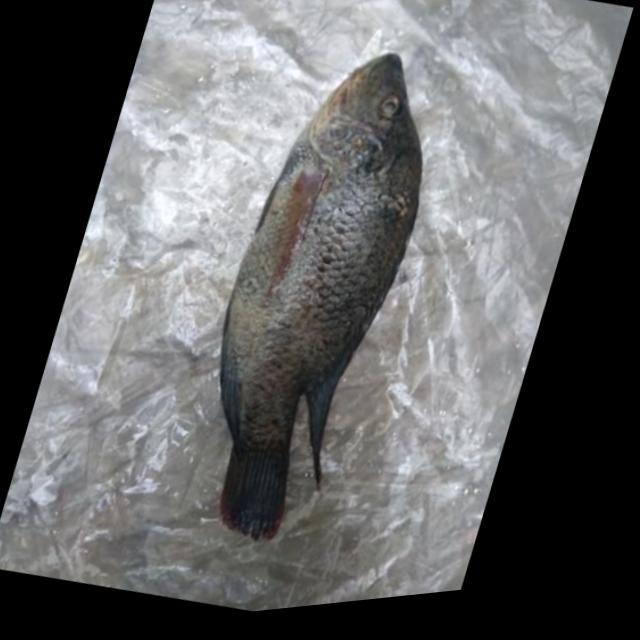Tilapia: (158, 19, 464, 568)
